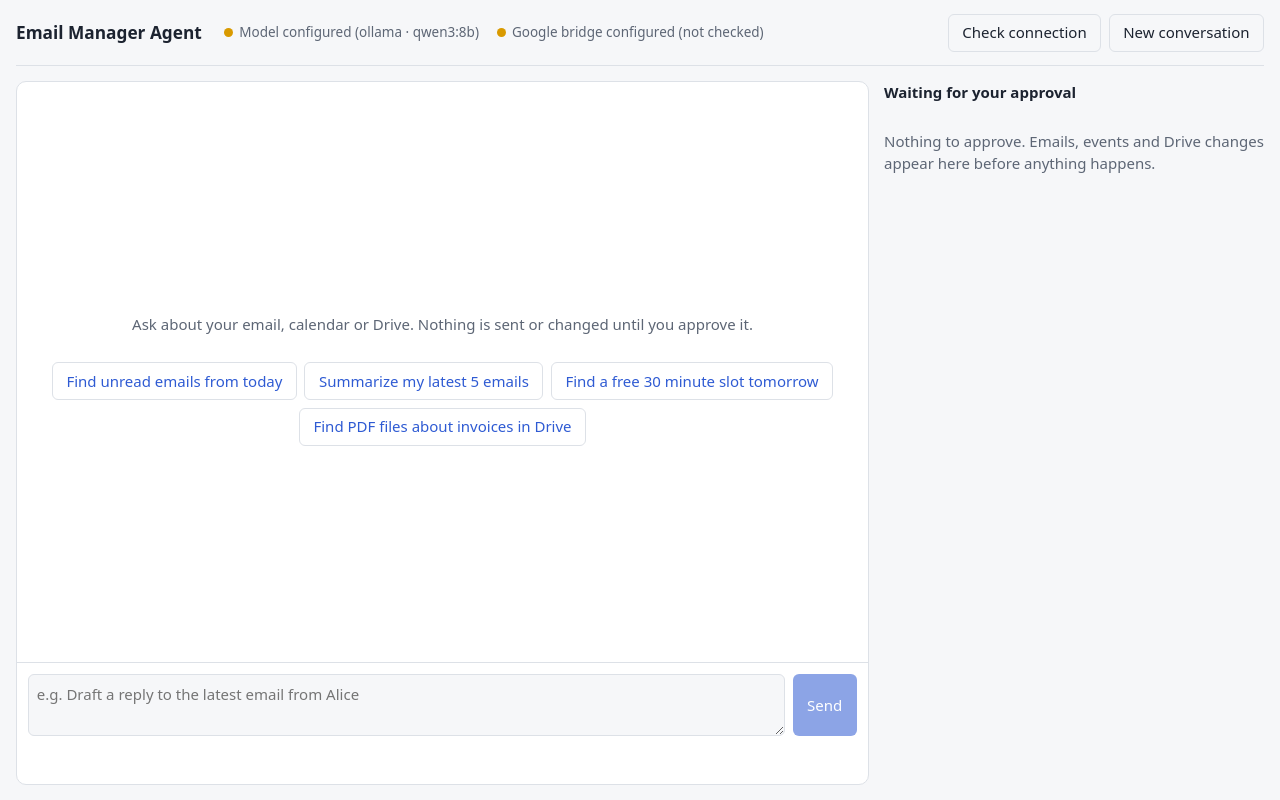
Test: approvals › shows the proposed email and only reports success after the backend confirms
Step 1. Type "email bob" into the text box named "Message" → (407, 705), box [28,674,785,736]
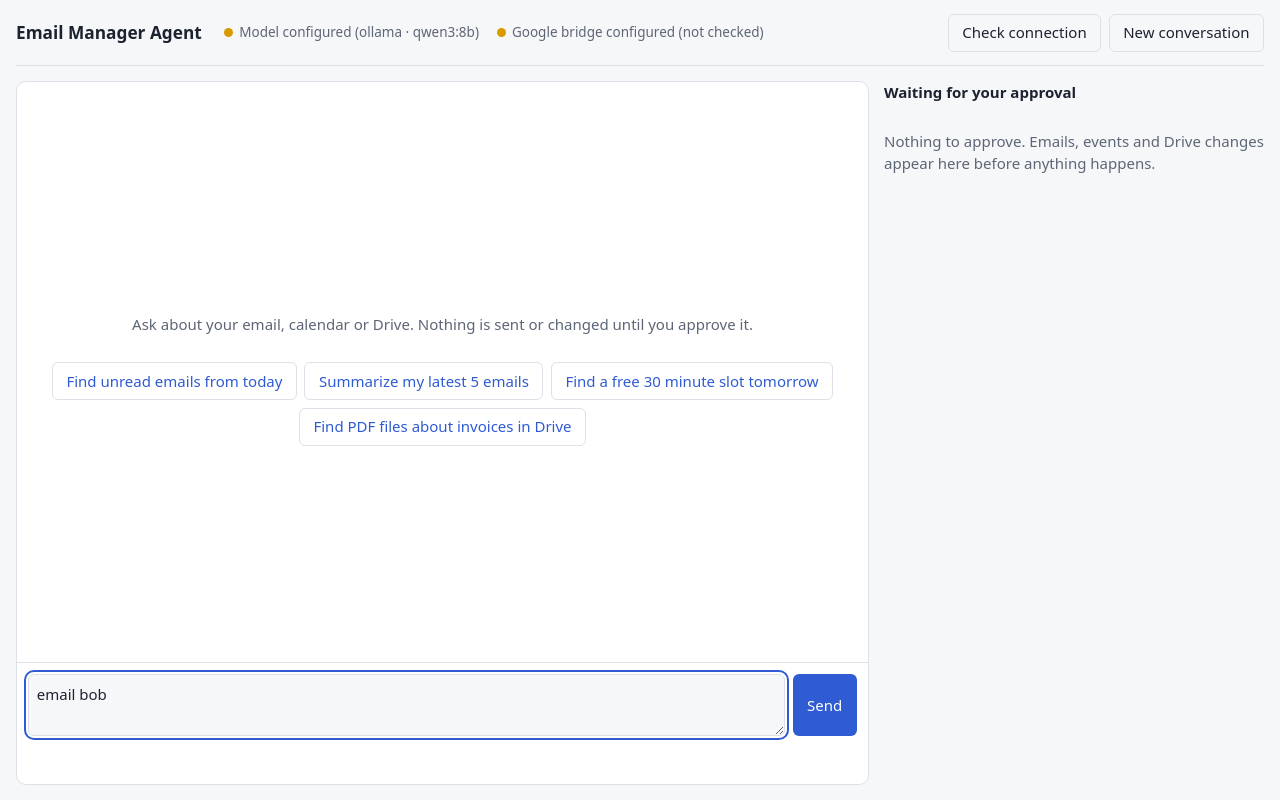
Step 2. Click the button "Send" → (825, 705), box [792,674,857,736]
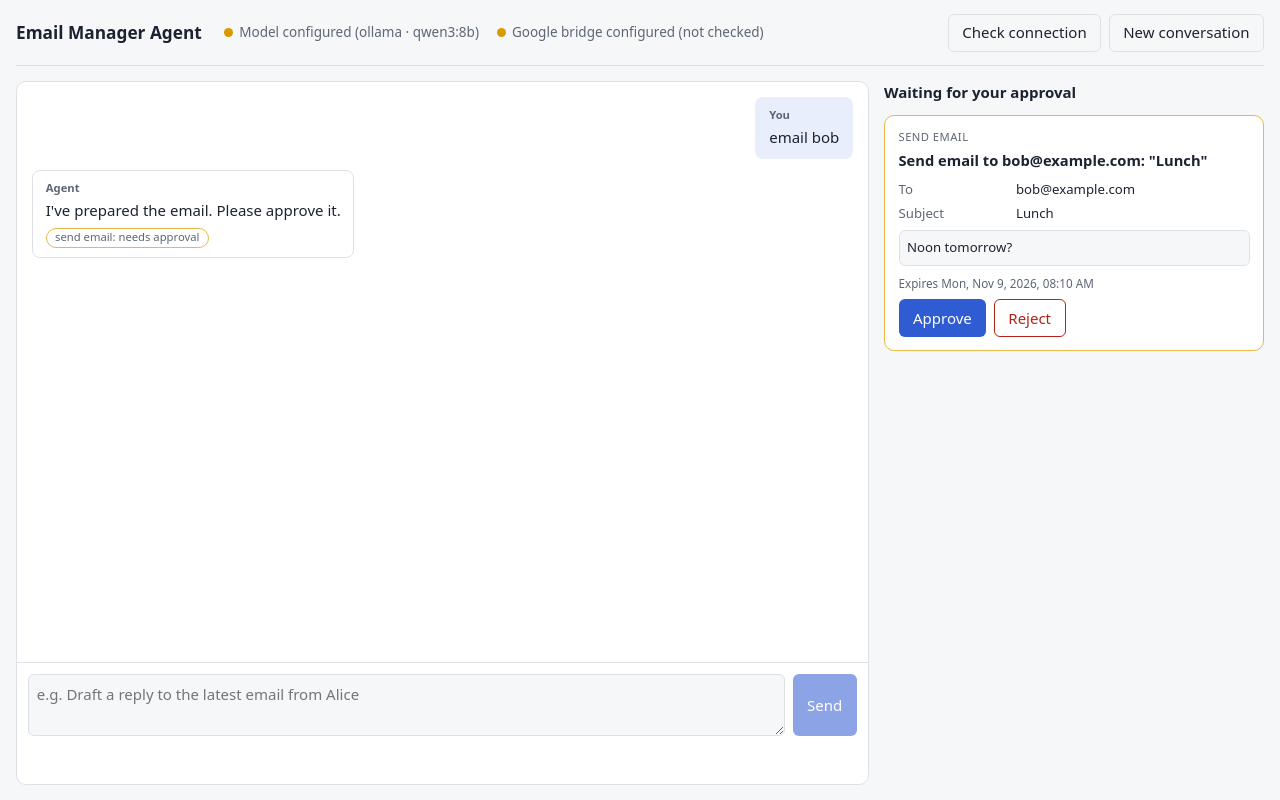
Result: the text "bob@example.com" is shown at [1016,180,1135,198]
Result: the text "Noon tomorrow?" is shown at [898,230,1250,266]
Step 3. Click the button "Approve" → (942, 318), box [898,299,986,337]
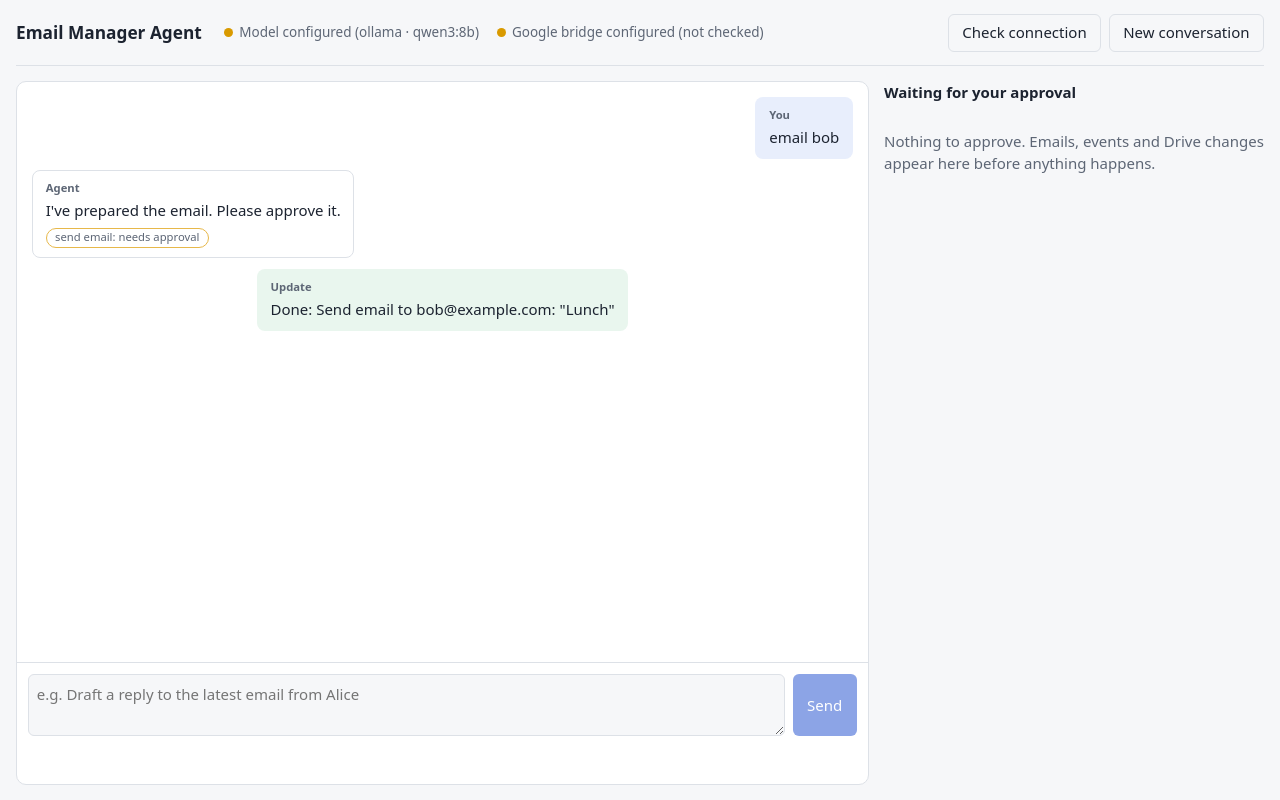
Result: the text "Done: Send email to bob@example.com: \"Lunch\"" is shown at [270,298,614,321]
